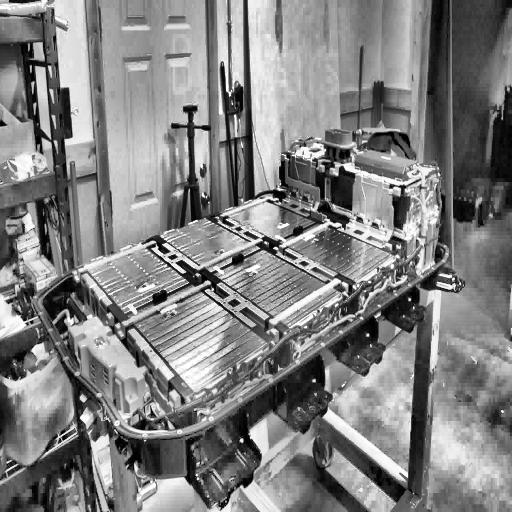battery_module: (127, 283, 268, 395), (213, 249, 342, 329), (83, 242, 190, 314), (279, 223, 395, 283), (160, 217, 261, 273), (221, 198, 316, 241)
bms_unit: (352, 152, 418, 179)
busbar: (114, 278, 215, 340), (267, 277, 349, 340), (71, 237, 160, 283), (194, 236, 270, 283), (280, 153, 328, 223), (273, 219, 343, 255), (212, 196, 280, 222), (380, 184, 402, 254), (314, 157, 343, 182)
connector: (319, 126, 355, 164)
high_volt_cable: (195, 162, 440, 419)
low_volt_cable: (119, 167, 444, 425)
